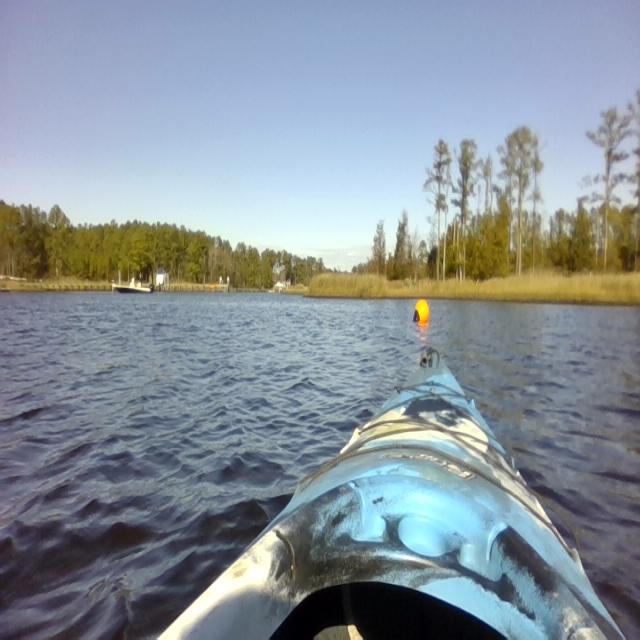Buoy: (412, 294, 431, 326)
